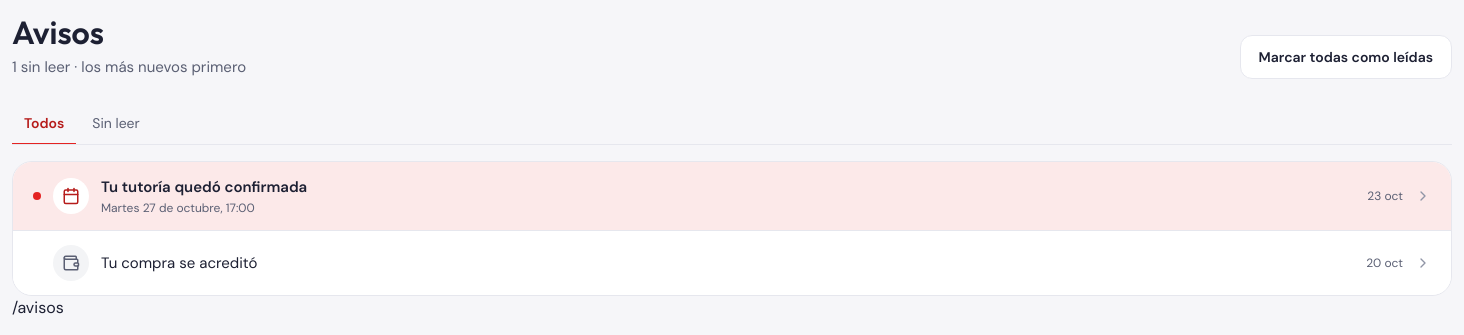
Test: FE-60 NoticesPage › marks an unread notice read and goes to the screen it is about
Click the button "Tu tutoría quedó confirmada" at x=71, y=196, box x1=13 y1=162 x2=1451 y2=230
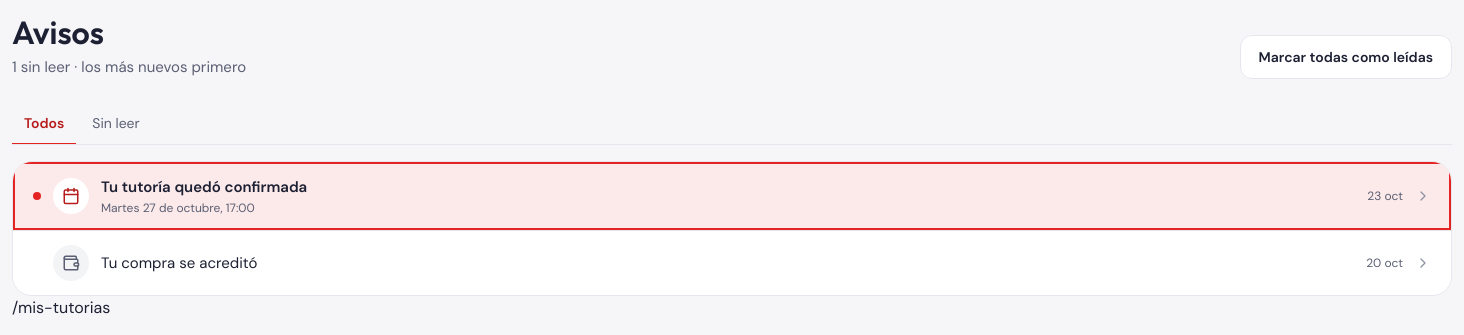
Check: the text with test id "location" reads "/mis-tutorias", box x1=12 y1=297 x2=110 y2=318
